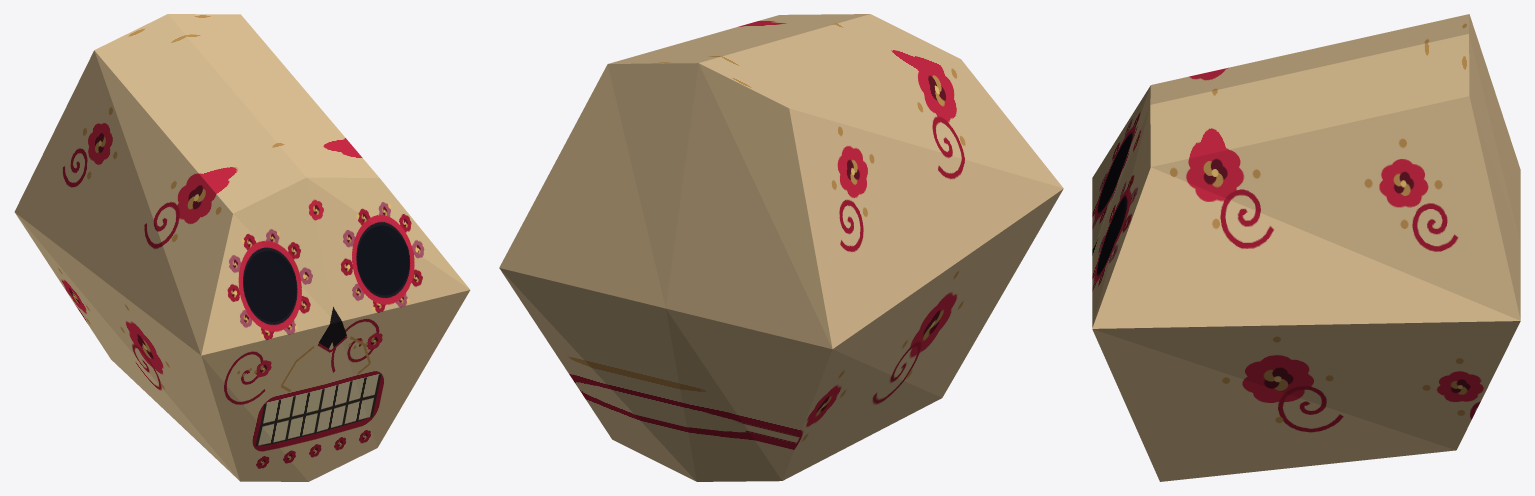
Rendered from Fermin_Cabeza.obj.
3 views of the same model, side by side, from view 1: azimuth 30°, elevation 25°; view 2: azimuth 150°, elevation 25°; view 3: azimuth 270°, elevation 25° (orthographic). The views are drawn at different scales.
Visible parts, largest first — view 1: Cube_color_skullside, Cube_color_skullface; view 2: Cube_color_skullside; view 3: Cube_color_skullside, Cube_color_skullface.
Part boxes in pixels (x1,y1,x2,y2): Cube_color_skullside: (14, 14, 379, 480); Cube_color_skullface: (201, 177, 470, 481); Cube_color_skullside: (499, 14, 1063, 481); Cube_color_skullside: (1092, 14, 1520, 481); Cube_color_skullface: (1092, 86, 1150, 327).
Size of the model in its own units: 1.02 by 1.34 by 1.22.
Materials: 2 (2 with a texture image).
